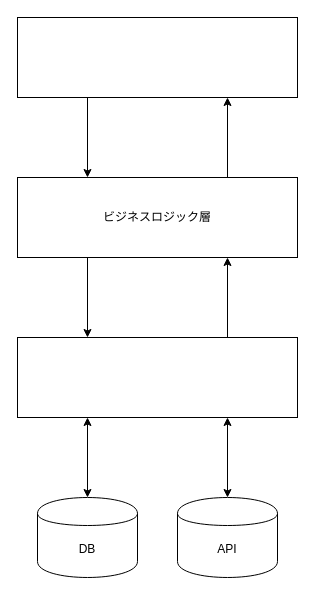
Some shapes in this 315 by 595 pixel diagram are drawn without their labels. The centre of each missing label's shape, as x and y in pixels:
データアクセス層: (157,377)
プレゼンテーション層: (157,57)
